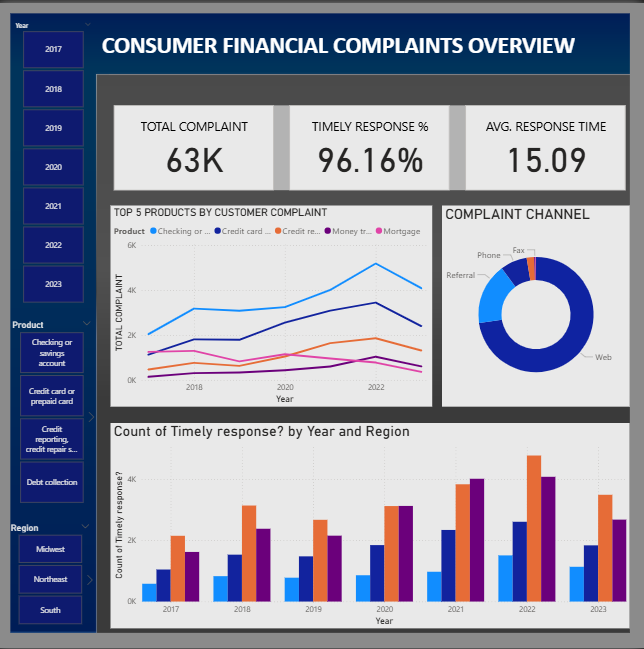

Layout of this report page (visuals, bound fields, positions):
{"tool":"powerbi","page":{"name":"COMPLAIN OVERVIEW","canvas":[1032,1024],"ordinal":0},"visuals":[{"type":"textbox","box":[165.2,37,841.3,73.9],"z":1000},{"type":"cardVisual","fields":{"Data":["MEASURES (2).total customer complaint","MEASURES (2).Timely Response %","MEASURES (2).AVG. RESPONSE TIME"]},"box":[183.3,156.2,822.9,145.8],"z":2000},{"type":"lineChart","title":"TOP 5 PRODUCTS BY CUSTOMER COMPLAINT","fields":{"Category":["DateTable.Year"],"Y":["MEASURES (2).TOTAL COMPLAINT"],"Series":["Complaints.Product"]},"box":[182.6,321.7,510.9,319.6],"z":3000},{"type":"clusteredColumnChart","title":"Count of Timely response? by Year and Region","fields":{"Category":["DateTable.Year"],"Y":["CountNonNull(Complaints.Timely response?)"],"Series":["Complaints.Census_Region"]},"box":[182.6,667.4,823.9,326.1],"z":4000},{"type":"donutChart","title":"COMPLAINT CHANNEL","fields":{"Category":["Complaints.Submitted via"],"Y":["MEASURES (2).TOTAL COMPLAINT"]},"box":[708.7,321.7,297.8,319.6],"z":5000},{"type":"slicer","fields":{"Values":["DateTable.Year"]},"box":[19.6,23.9,145.7,458.7],"z":6000},{"type":"slicer","fields":{"Values":["Complaints.Product"]},"box":[14.6,497.9,150,302.1],"z":7000},{"type":"slicer","fields":{"Values":["Complaints.Census_Region"]},"box":[10.9,819.6,150,173.9],"z":8000}]}

Visuals, with their boxes in screenshot pixels (x1, y1, x2, y2), scaled from the page's 1032x1024 canvas onto the 644x649 screenshot:
textbox: bbox=(103, 23, 628, 70)
cardVisual - MEASURES (2).total customer complaint x MEASURES (2).Timely Response %: bbox=(114, 99, 628, 191)
"TOP 5 PRODUCTS BY CUSTOMER COMPLAINT" lineChart: bbox=(114, 204, 433, 406)
"Count of Timely response? by Year and Region" clusteredColumnChart: bbox=(114, 423, 628, 630)
"COMPLAINT CHANNEL" donutChart: bbox=(442, 204, 628, 406)
slicer - DateTable.Year: bbox=(12, 15, 103, 306)
slicer - Complaints.Product: bbox=(9, 316, 103, 507)
slicer - Complaints.Census_Region: bbox=(7, 519, 100, 630)
